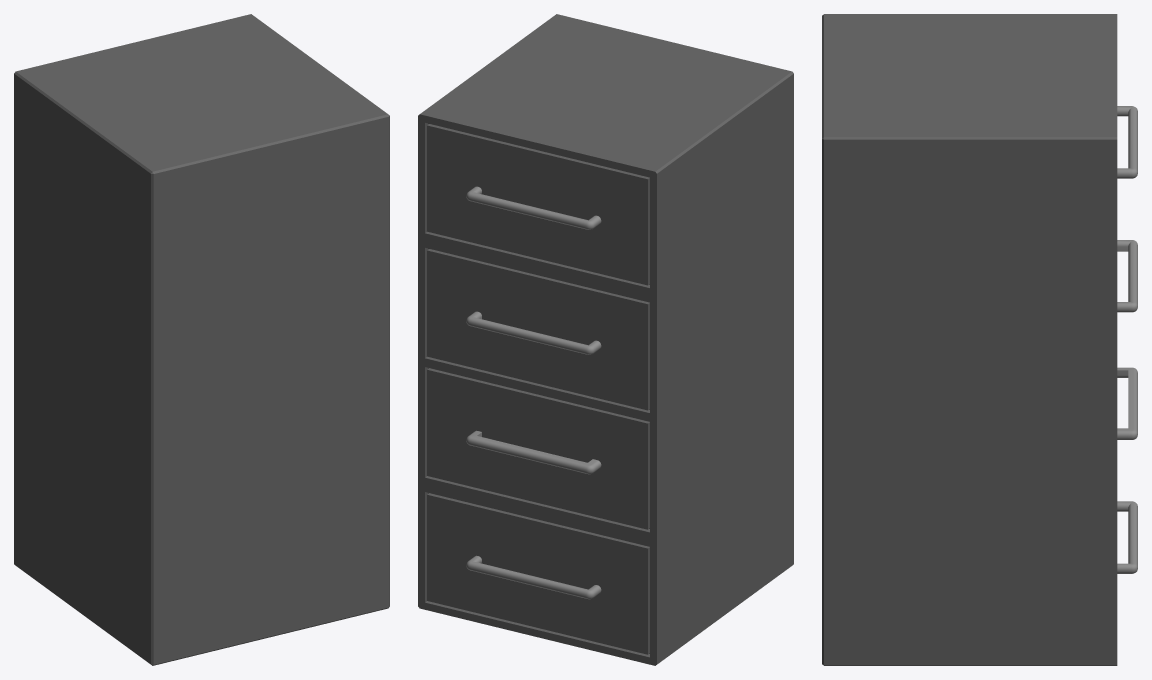
File: cabinet.fbx
The picture shows the model from 3 angles, left to right: view 1: azimuth 30°, elevation 25°; view 2: azimuth 150°, elevation 25°; view 3: azimuth 270°, elevation 25°; orthographic projection. The views are drawn at different scales.
Parts seen in each view (by area): view 1: cabinter; view 2: cabinter; view 3: cabinter.
Boxes of the visible parts, x1,y1,x2,y2 form: cabinter: [14, 14, 389, 665]; cabinter: [418, 14, 793, 665]; cabinter: [822, 14, 1137, 665].
Bounding box in the file's own units: 200 × 395 × 214.
Materials: 1 (1 with a texture image).
